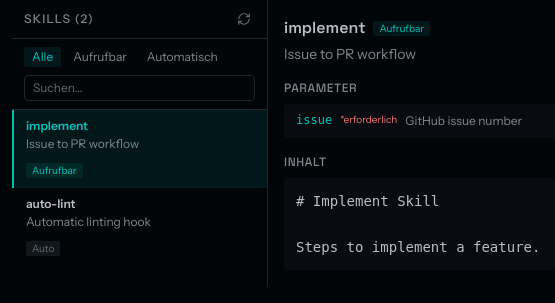
SkillsViewer › filters skills by invokable type
The width and height of the screenshot is (555, 303).
Check: the text "Skills (2)" is shown, box [24,11,94,27]
# Filter to "Aufrufbar" (user-invokable) — multiple "Aufrufbar" exist (filter btn + badge)
Click the button "Aufrufbar": [100, 57] box [65,47,135,67]
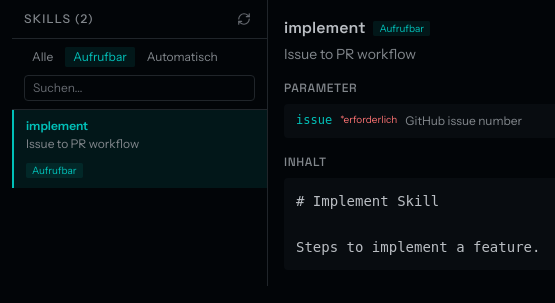
Check: the button "auto-lint" is gone
# Filter to "Automatisch"
Click the button "Automatisch": [182, 57] box [139,47,226,67]
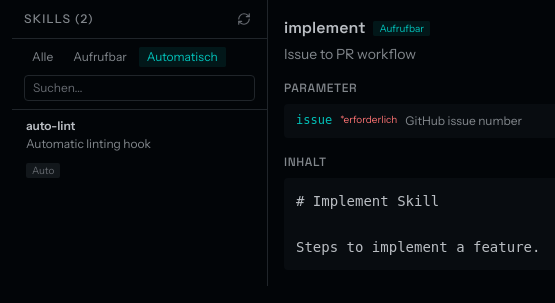
Check: the text "auto-lint" is shown, box [26,118,75,134]
